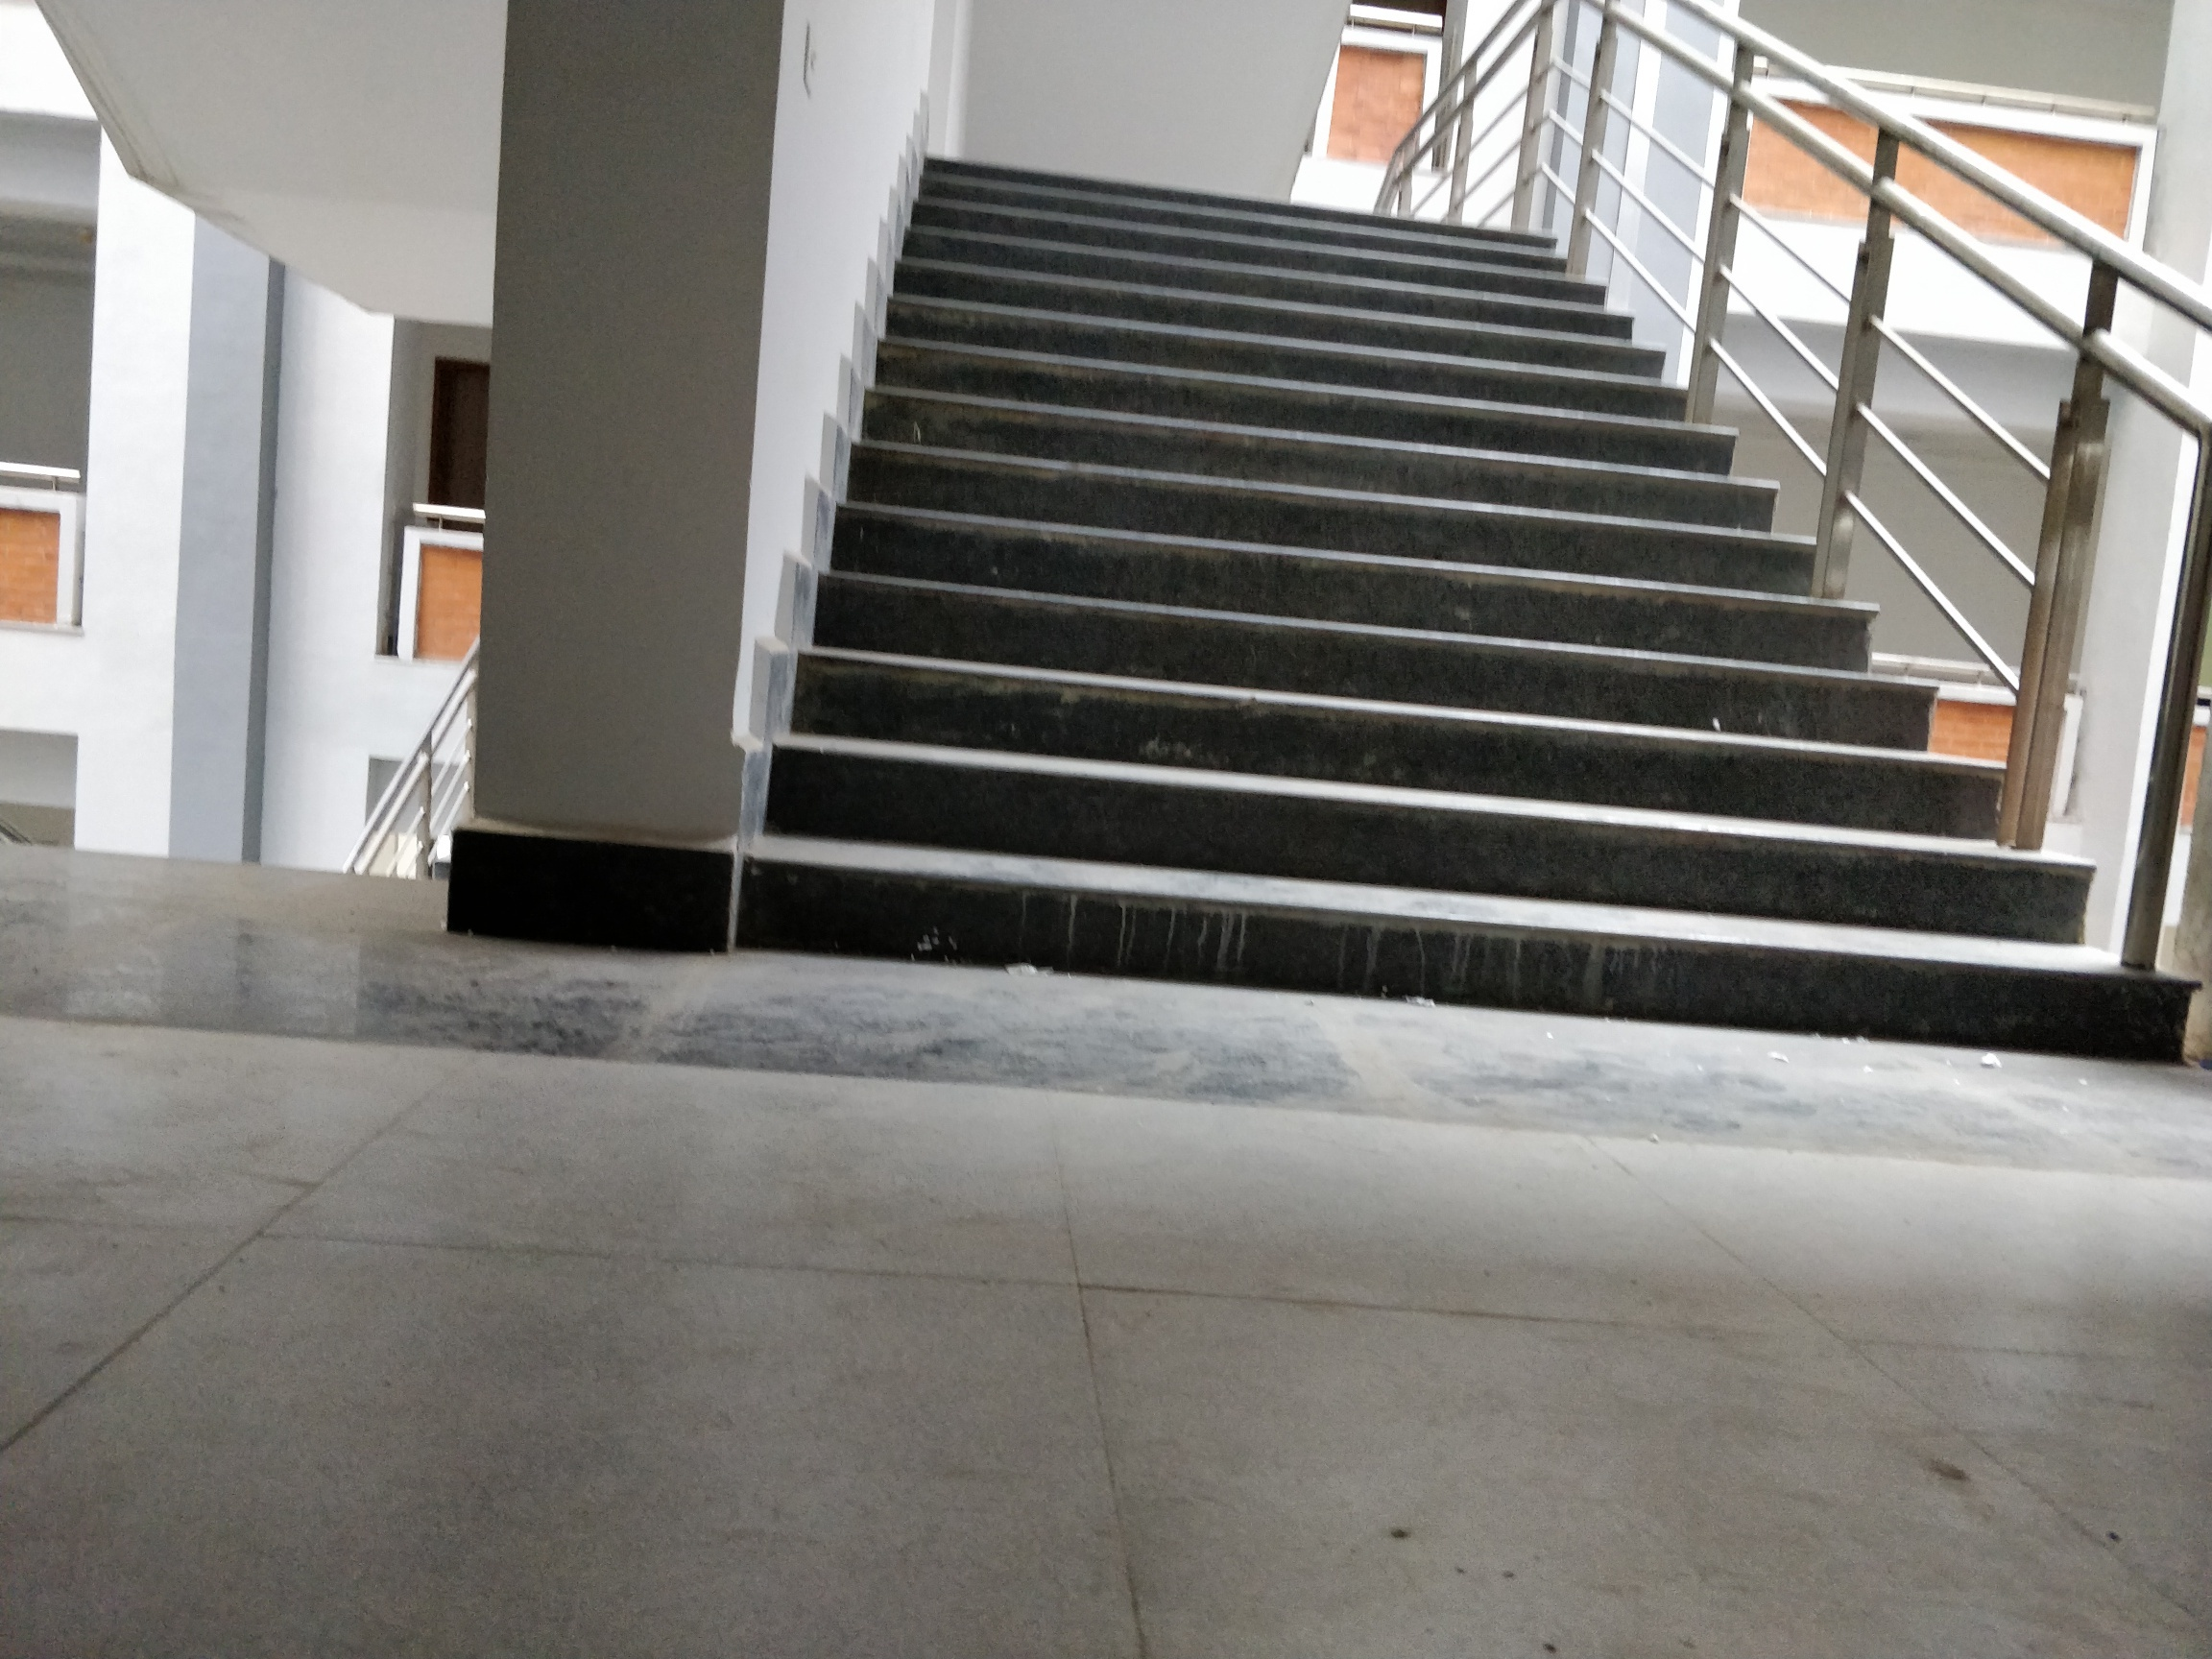stairs_up: (799, 166, 2055, 1046)
